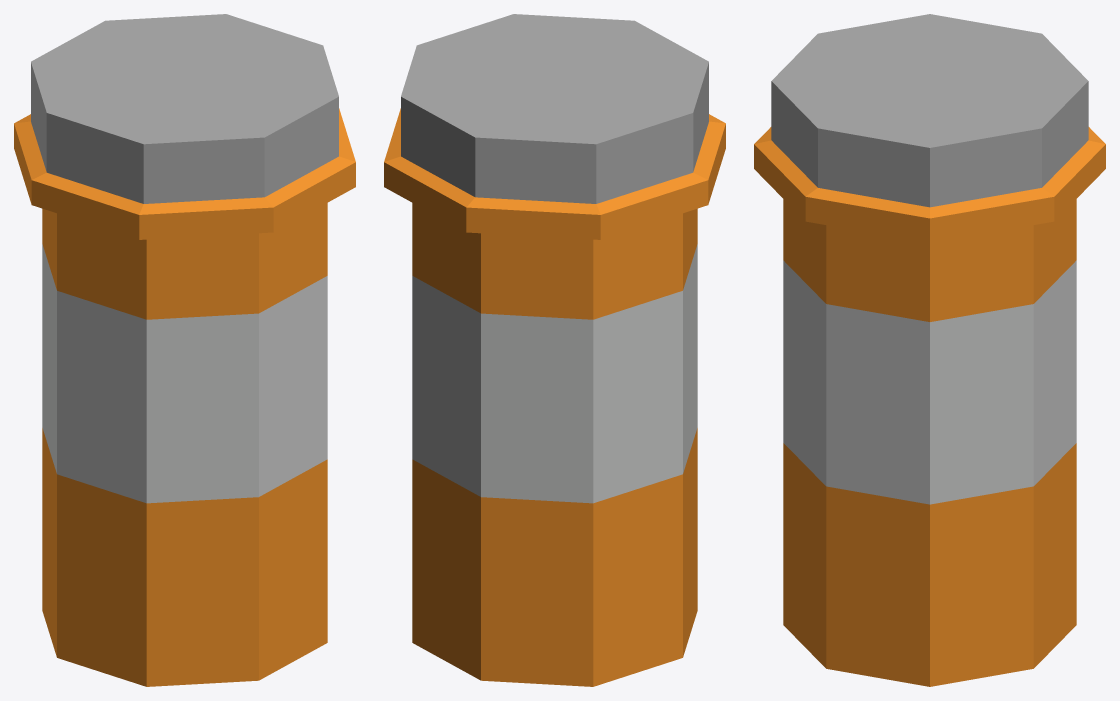
The model's file is PainKiller_Consu.glb.
The picture shows the model from 3 angles, left to right: view 1: azimuth 30°, elevation 25°; view 2: azimuth 150°, elevation 25°; view 3: azimuth 270°, elevation 25°; orthographic projection.
Visible parts, largest first — view 1: painkiller (1); view 2: painkiller (1); view 3: painkiller (1).
Part boxes in pixels (<box>): painkiller (1): <box>14,14,355,686</box>; painkiller (1): <box>384,14,725,686</box>; painkiller (1): <box>754,14,1105,686</box>.
Size of the model in its own units: 0.0839 by 0.1431 by 0.0839.
Materials: 1 (1 with a texture image).
